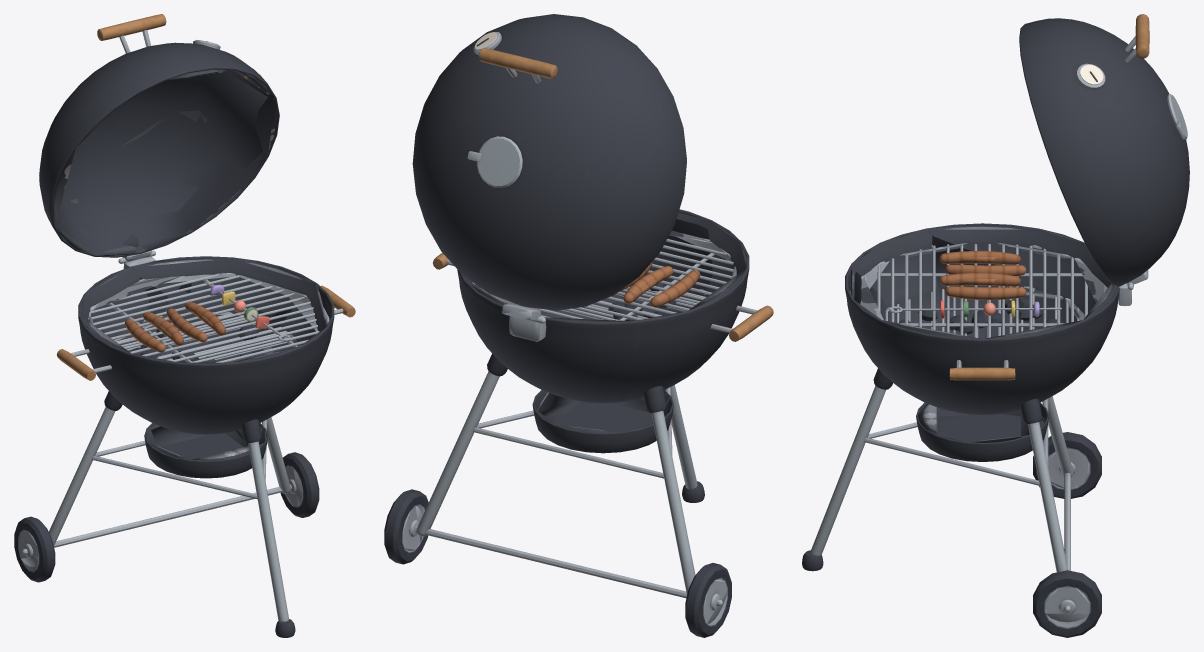
Rendered from g3d_kettle_grill.glb.
The picture shows the model from 3 angles, left to right: view 1: azimuth 30°, elevation 25°; view 2: azimuth 150°, elevation 25°; view 3: azimuth 270°, elevation 25°; orthographic projection. The views are drawn at different scales.
Visible parts, largest first — view 1: kettle-grill_body, kettle-grill_lid_lo, kettle-grill_body_lo, kettle-grill_lid; view 2: kettle-grill_lid, kettle-grill_body, kettle-grill_body_lo; view 3: kettle-grill_body, kettle-grill_lid, kettle-grill_body_lo.
Part boxes in pixels (<box>): kettle-grill_body: <box>14,250,355,637</box>; kettle-grill_lid_lo: <box>52,44,276,255</box>; kettle-grill_body_lo: <box>18,257,327,566</box>; kettle-grill_lid: <box>39,14,279,261</box>; kettle-grill_lid: <box>412,14,686,320</box>; kettle-grill_body: <box>384,209,773,637</box>; kettle-grill_body_lo: <box>385,212,746,633</box>; kettle-grill_body: <box>802,223,1133,637</box>; kettle-grill_lid: <box>1019,14,1189,286</box>; kettle-grill_body_lo: <box>805,224,1117,624</box>.
Size of the model in its own units: 0.7575 by 1.26 by 0.822.
Materials: 2 (2 with a texture image).
